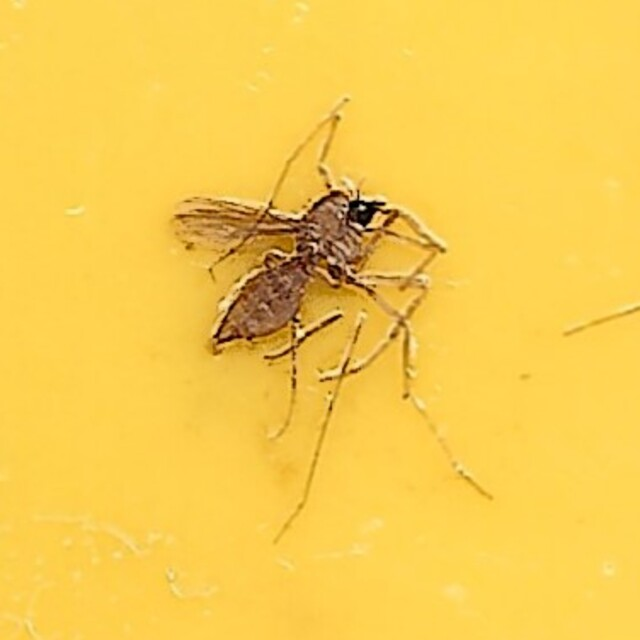Nematocera: (170, 174, 470, 466)
